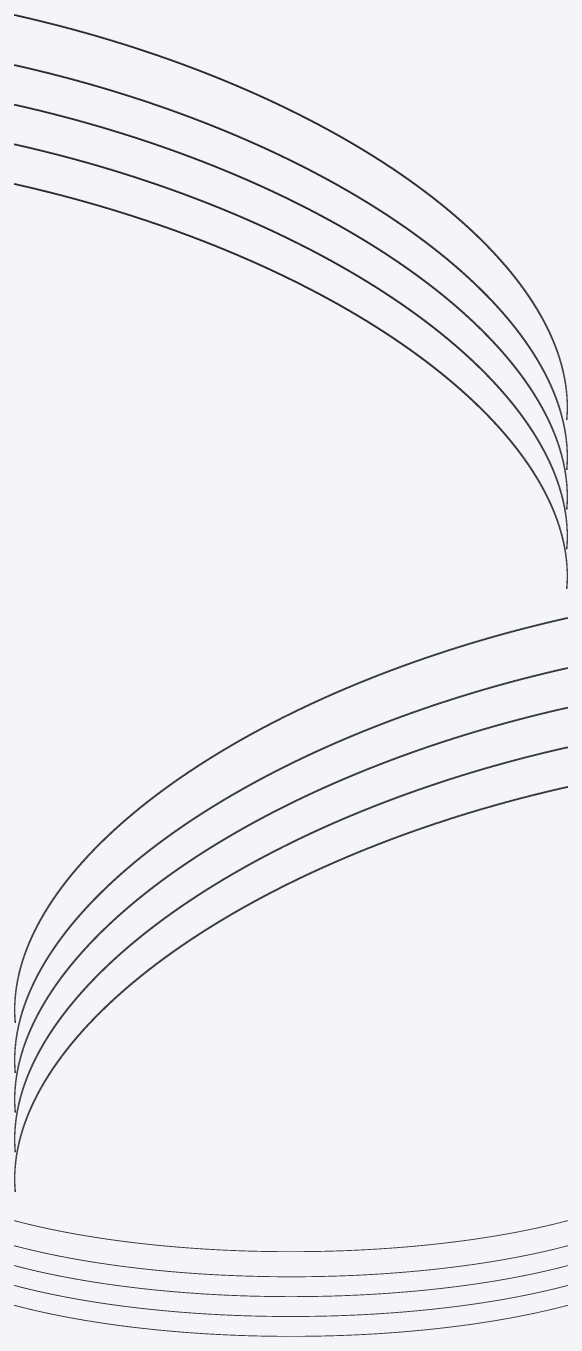
Rendered from Trims.glb.
3 renders of one model, top to bottom at view 1: azimuth 30°, elevation 25°; view 2: azimuth 150°, elevation 25°; view 3: azimuth 270°, elevation 25°, orthographic. The views are drawn at different scales.
Visible parts, largest first — view 1: Trims; view 2: Trims; view 3: Trims.
Boxes of the visible parts, x1,y1,x2,y2 form: Trims: (14, 14, 567, 588); Trims: (14, 617, 567, 1191); Trims: (14, 1220, 567, 1336).
Bounding box in the file's own units: 24.12 × 30.6 × 180.
1 material, 1 textured.
